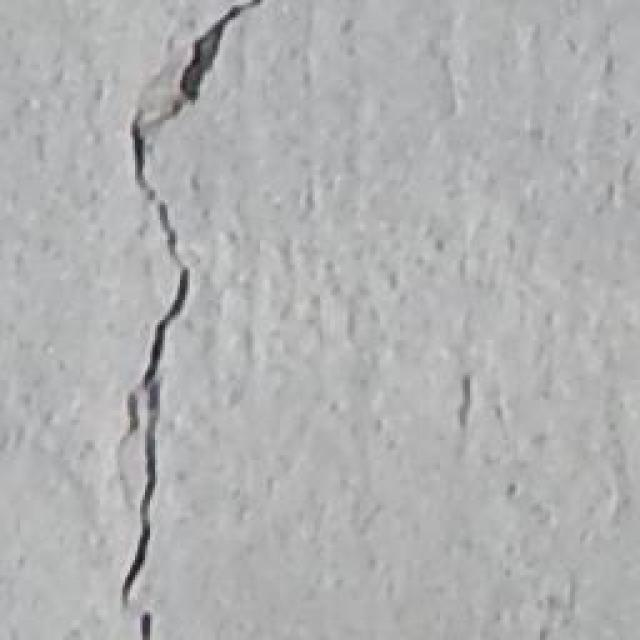concrete-crack: (114, 0, 276, 640)
